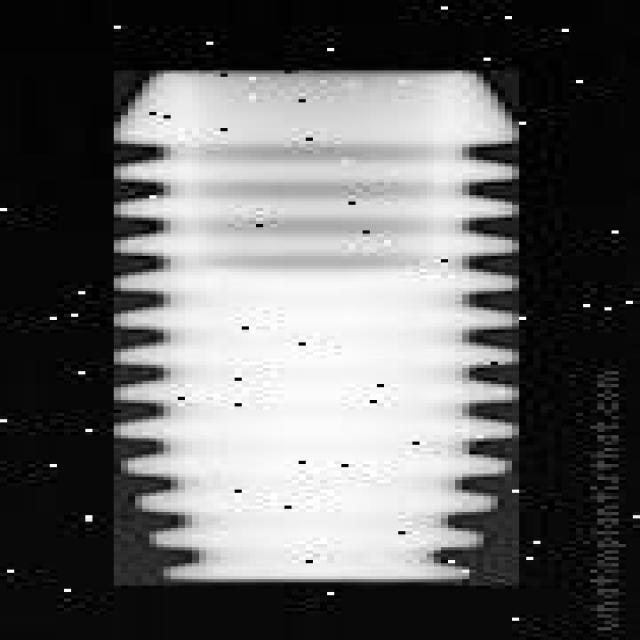OsseoLink Implant: (114, 70, 519, 586)
